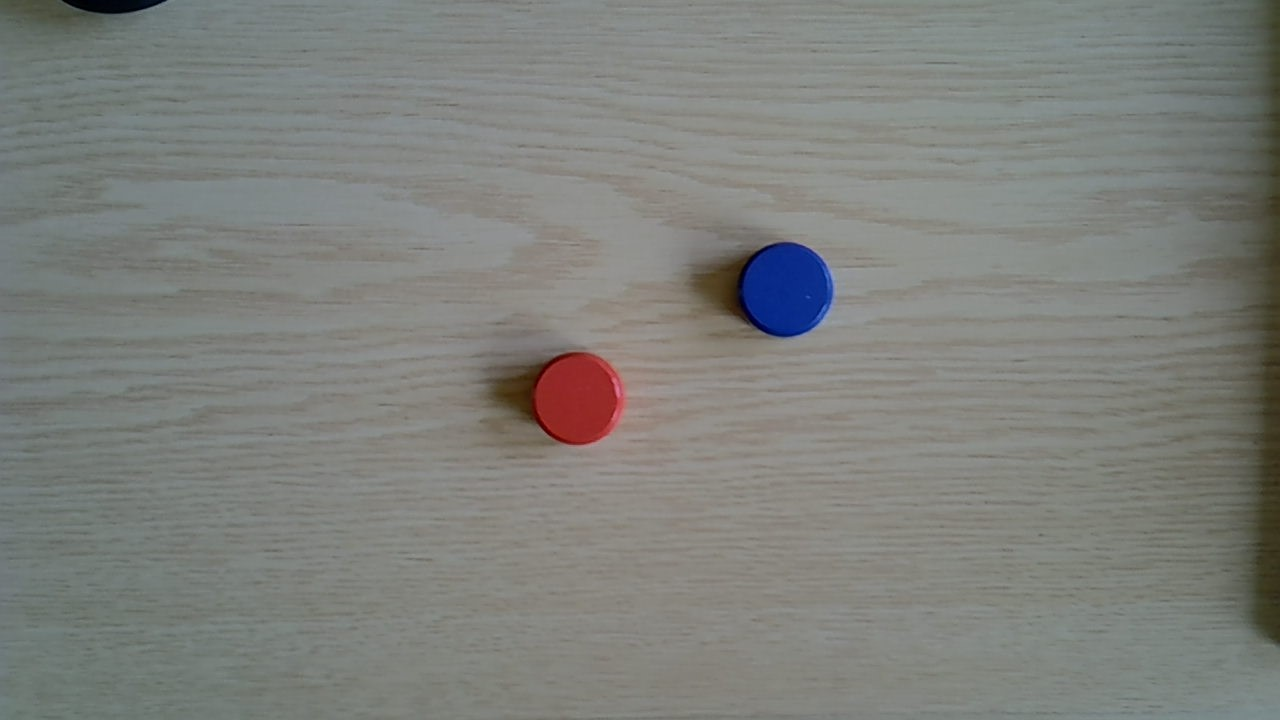WerkStueck: (737, 240, 836, 338), (531, 352, 625, 448)
